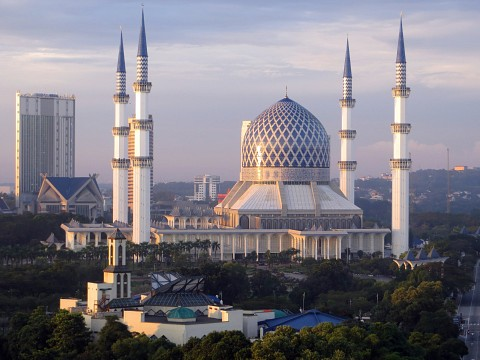Mosque: (86, 3, 416, 253)
